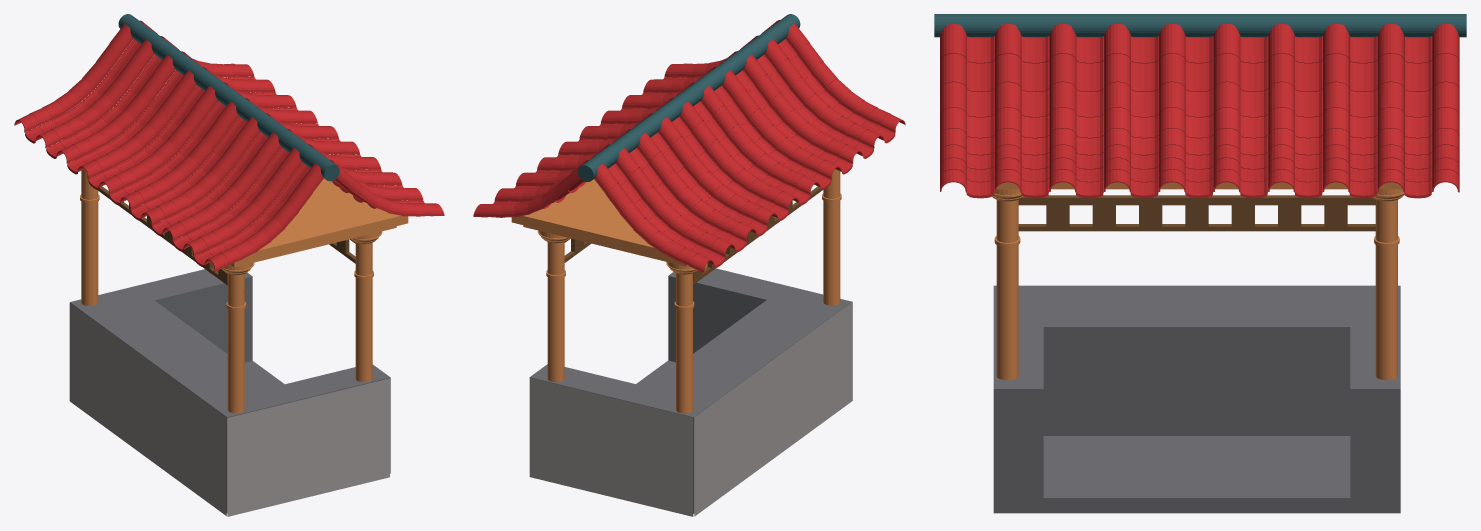
File: Booth1.1.fbx
3 views of the same model, side by side, from view 1: azimuth 30°, elevation 25°; view 2: azimuth 150°, elevation 25°; view 3: azimuth 270°, elevation 25° (orthographic). The views are drawn at different scales.
Parts seen in each view (by area): view 1: Cylinder.001, Cube.005, Plane.002, Plane, Cylinder, Cube.001, Cylinder.002, Cube.003; view 2: Cylinder.001, Plane.001, Cube.005, Plane, Cylinder, Cube.001, Cylinder.002, Cube.003; view 3: Cube.005, Cylinder.001, Cylinder.002, Cube.002, Cylinder, Cube.001.
Part boxes in pixels (bbox=[...]): Cylinder.001: bbox=[14, 20, 444, 271]; Cube.005: bbox=[70, 269, 390, 512]; Plane.002: bbox=[227, 378, 389, 516]; Plane: bbox=[69, 303, 226, 515]; Cylinder: bbox=[76, 159, 382, 413]; Cube.001: bbox=[79, 89, 408, 267]; Cylinder.002: bbox=[118, 14, 339, 181]; Cube.003: bbox=[98, 186, 244, 293]; Cylinder.001: bbox=[473, 20, 905, 272]; Plane.001: bbox=[529, 377, 693, 516]; Cube.005: bbox=[529, 268, 851, 513]; Plane: bbox=[694, 302, 851, 516]; Cylinder: bbox=[537, 169, 841, 413]; Cube.001: bbox=[511, 179, 687, 266]; Cylinder.002: bbox=[578, 14, 800, 182]; Cube.003: bbox=[693, 186, 822, 284]; Cube.005: bbox=[993, 285, 1400, 513]; Cylinder.001: bbox=[940, 24, 1459, 198]; Cylinder.002: bbox=[934, 14, 1466, 37]; Cube.002: bbox=[1018, 195, 1375, 231]; Cylinder: bbox=[992, 189, 1404, 380]; Cube.001: bbox=[996, 182, 1402, 189].
Bounding box in the file's own units: 971 × 1406 × 1503.
